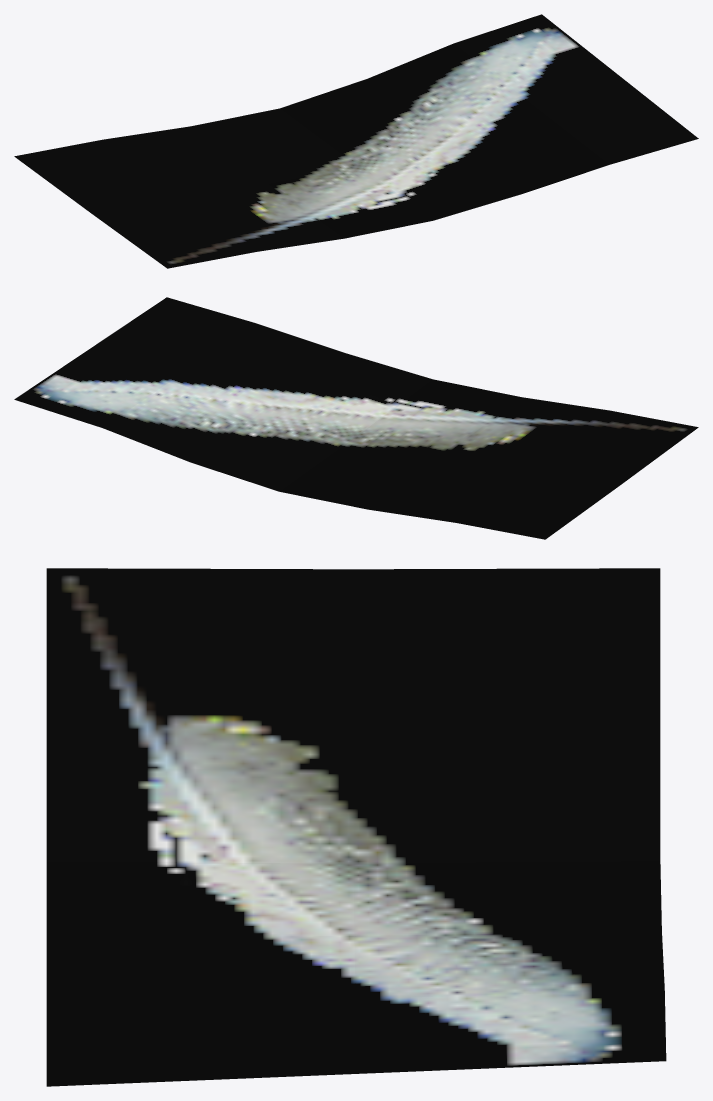
File: feather.fbx
The picture shows the model from 3 angles, top to bottom: view 1: azimuth 30°, elevation 25°; view 2: azimuth 150°, elevation 25°; view 3: azimuth 270°, elevation 25°; orthographic projection. The views are drawn at different scales.
Parts seen in each view (by area): view 1: featherPlane; view 2: featherPlane; view 3: featherPlane.
Boxes of the visible parts, <box> form: featherPlane: <box>14,14,698,268</box>; featherPlane: <box>14,297,698,539</box>; featherPlane: <box>46,568,666,1086</box>.
Bounding box in the file's own units: 200 × 10.73 × 101.
